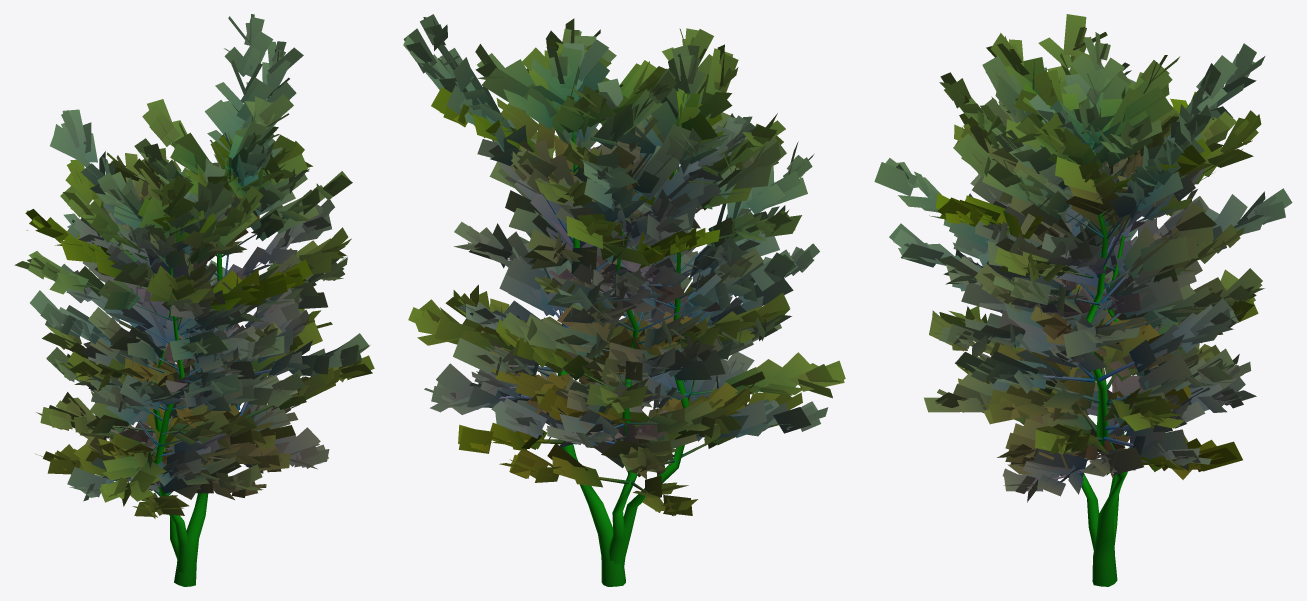
File: whitebark_a.glb
3 views of the same model, side by side, from view 1: azimuth 30°, elevation 25°; view 2: azimuth 150°, elevation 25°; view 3: azimuth 270°, elevation 25° (orthographic). The views are drawn at different scales.
Parts seen in each view (by area): view 1: LOD0; view 2: LOD0; view 3: LOD0.
Part boxes in pixels (bbox=[...]): LOD0: bbox=[14, 14, 374, 586]; LOD0: bbox=[403, 14, 845, 586]; LOD0: bbox=[874, 14, 1292, 586].
Size of what is drawn, in the model's own units: 8.62 by 12.7 by 8.28.
